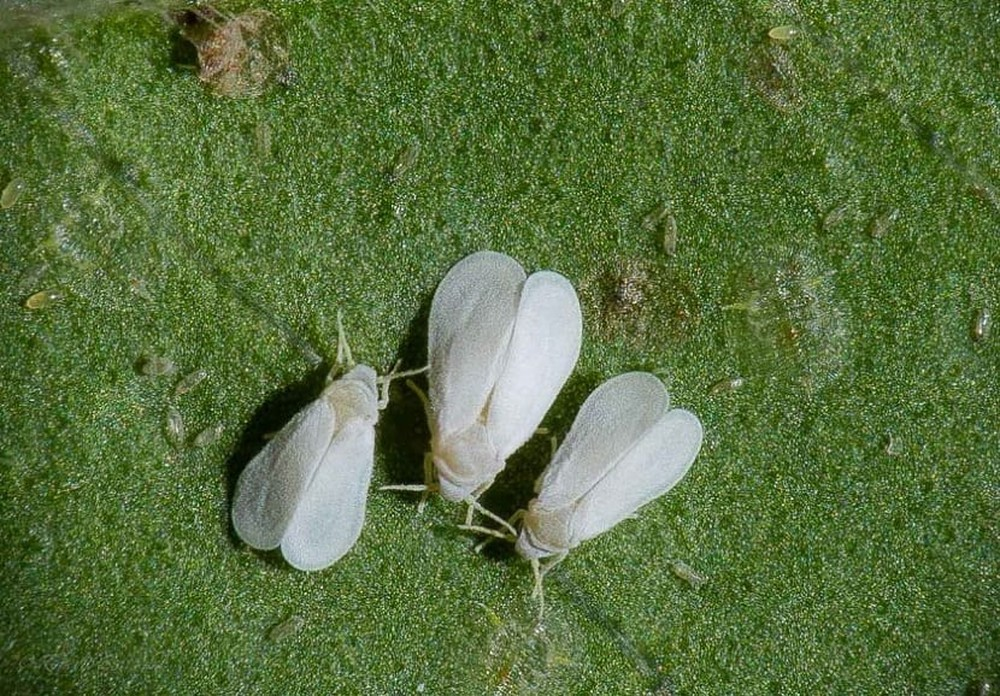Mosca Blanca: (190, 306, 419, 600), (378, 250, 587, 553), (494, 370, 712, 593)
